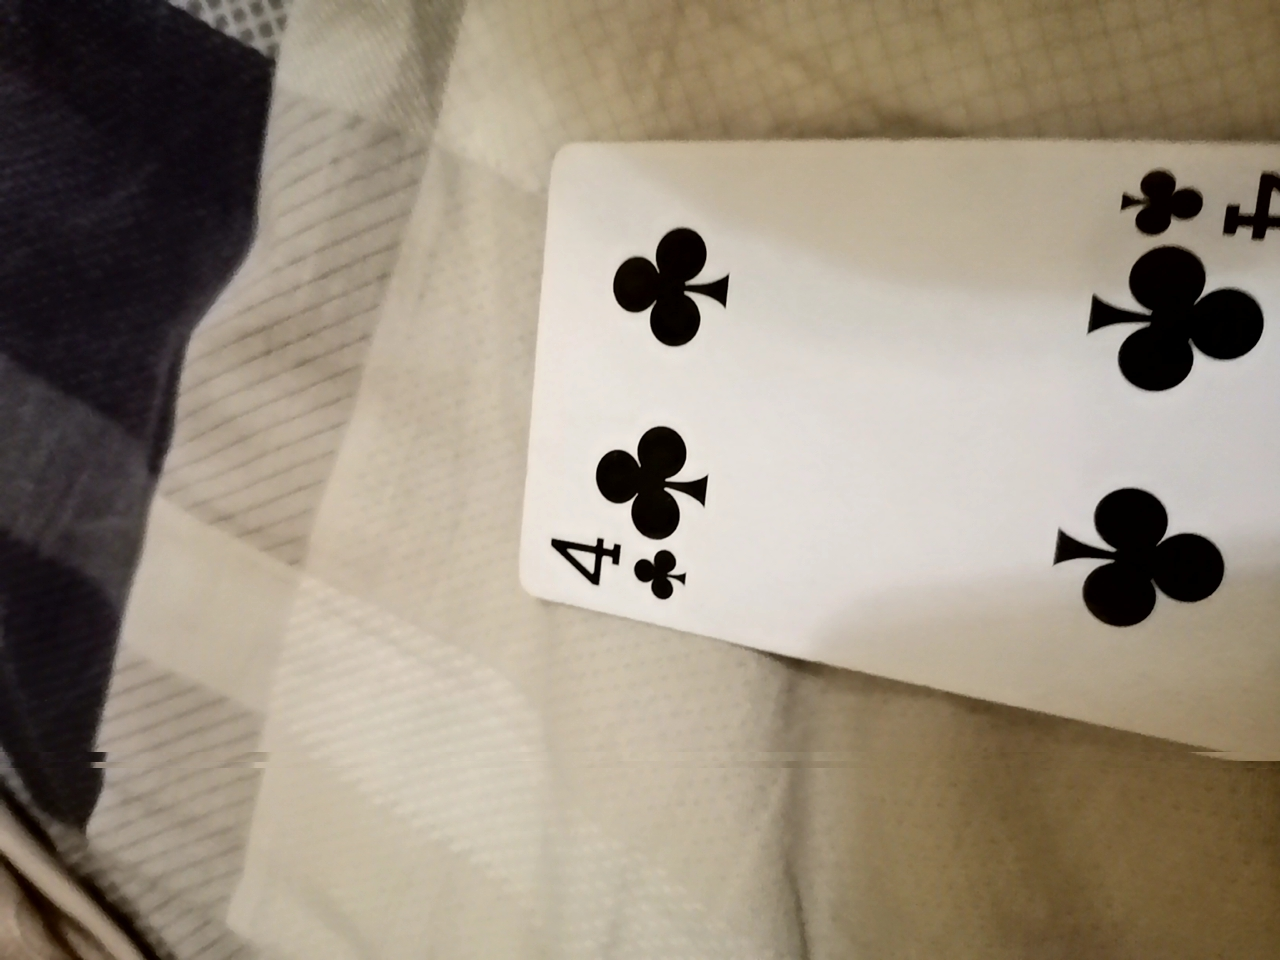mh 4: (485, 131, 1270, 788)
